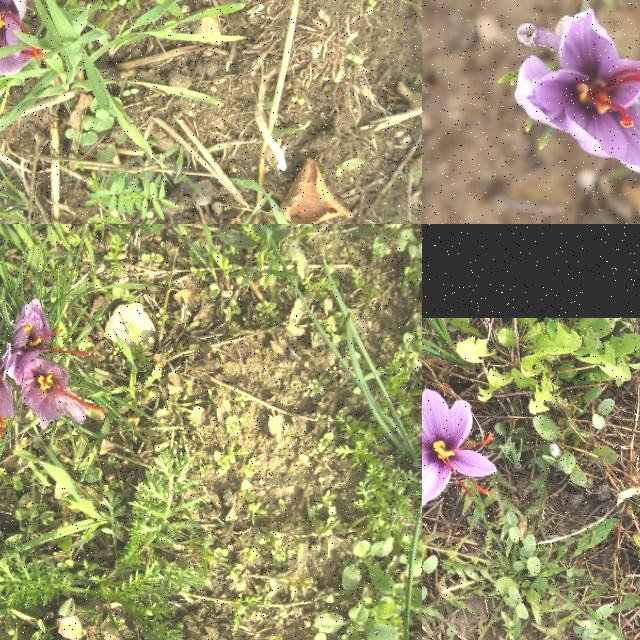flower: (517, 11, 640, 178), (422, 388, 497, 507), (0, 0, 44, 75)
overlap: (1, 299, 105, 459)
